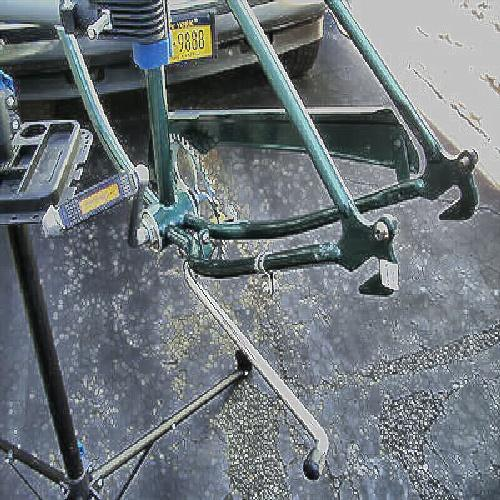bicycle: (36, 32, 481, 298)
